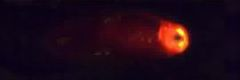keyhole: (173, 30, 183, 43)
